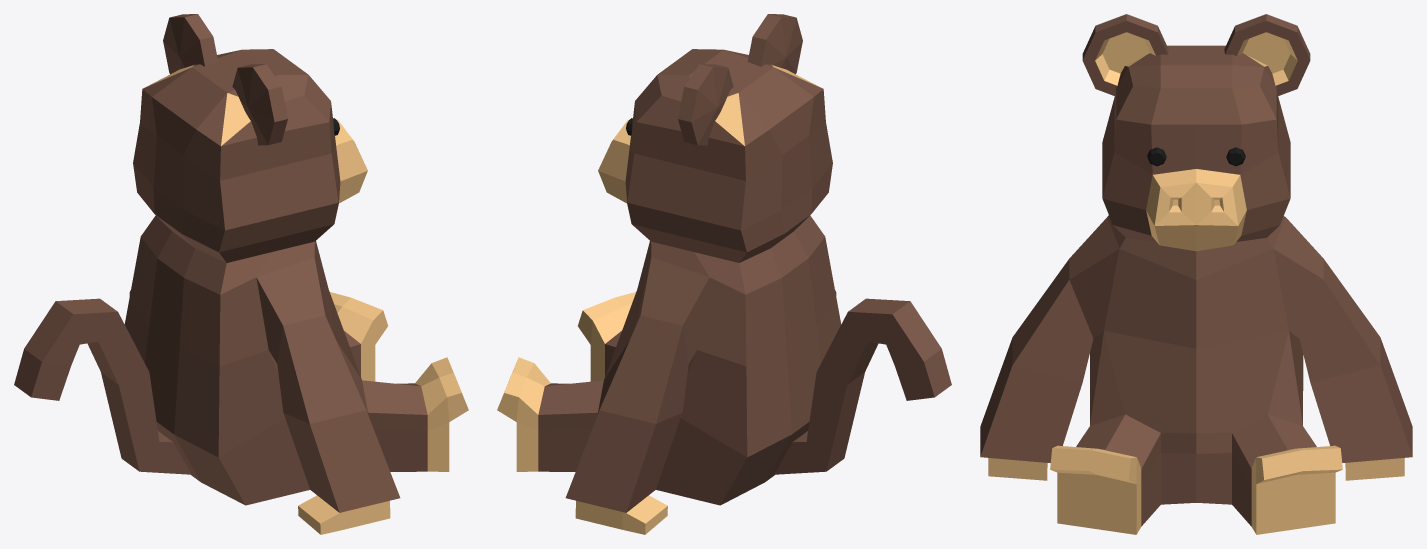
Rendered from Monkey.glb.
3 renders of one model, left to right at view 1: azimuth 30°, elevation 25°; view 2: azimuth 150°, elevation 25°; view 3: azimuth 270°, elevation 25°, orthographic. The views are drawn at different scales.
Parts seen in each view (by area): view 1: Monkey_01_Cube.042; view 2: Monkey_01_Cube.042; view 3: Monkey_01_Cube.042.
Part boxes in pixels (x1,y1,x2,y2): Monkey_01_Cube.042: (14,14,468,534); Monkey_01_Cube.042: (497,14,951,534); Monkey_01_Cube.042: (980,14,1412,534).
Size of the model in its own units: 15.55 by 15.63 by 14.3.
